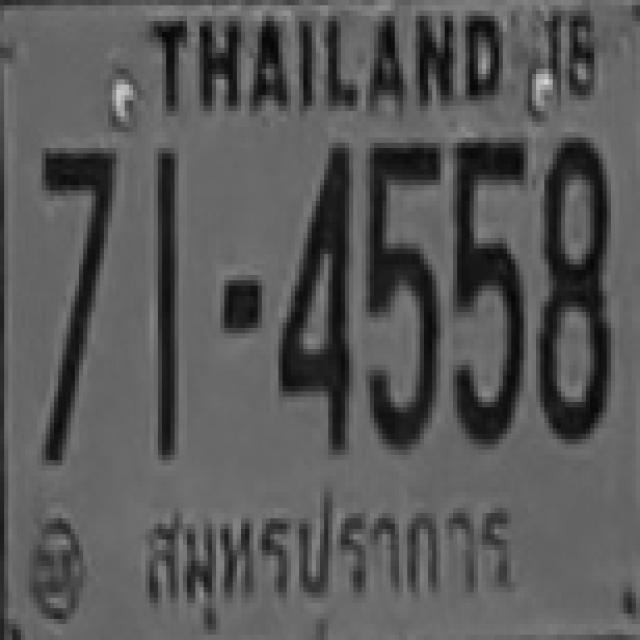1: (153, 146, 174, 384)
4: (274, 140, 349, 447)
5: (448, 137, 524, 307)
7: (38, 146, 112, 330)
8: (536, 130, 607, 436)
SamutPrakan: (141, 484, 524, 612)
